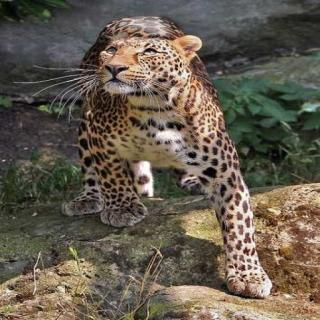Leopard: (28, 5, 289, 299)
